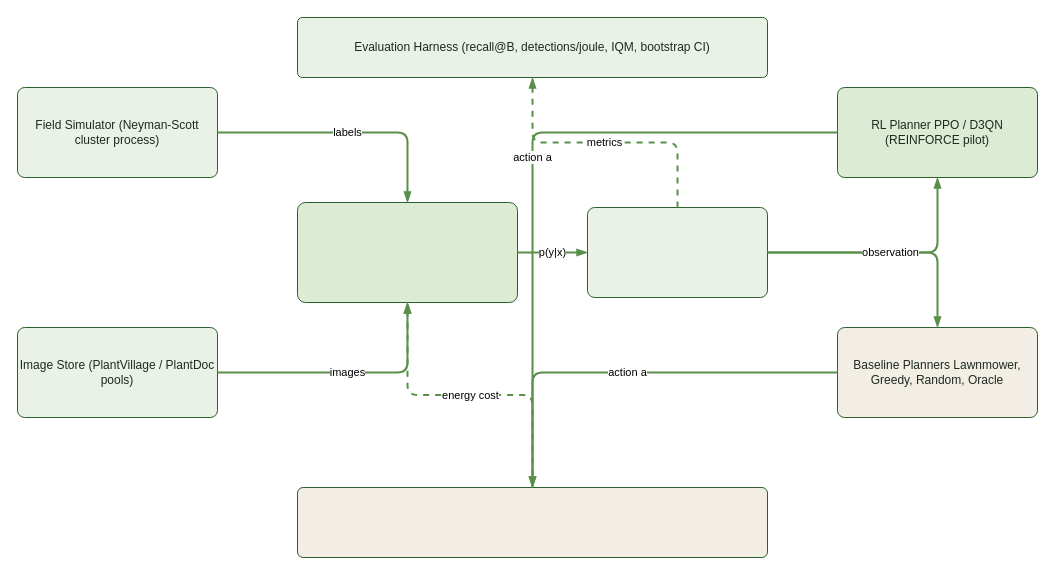
The diagram is 1055 pixels wide and 575 high, and some of its shapes have lost their labels. The shapes that lost their labels are listed below. From the top down, each one's centre as x and y in pixels, then its label:
At (407,252): "Perception Module EfficientNet-B0 + temperature layer T".
At (677,252): "Bayesian Belief Map b(r,c), H(b)".
At (532,522): "Energy & Kinematics Model (hover + translation + altitude)".
